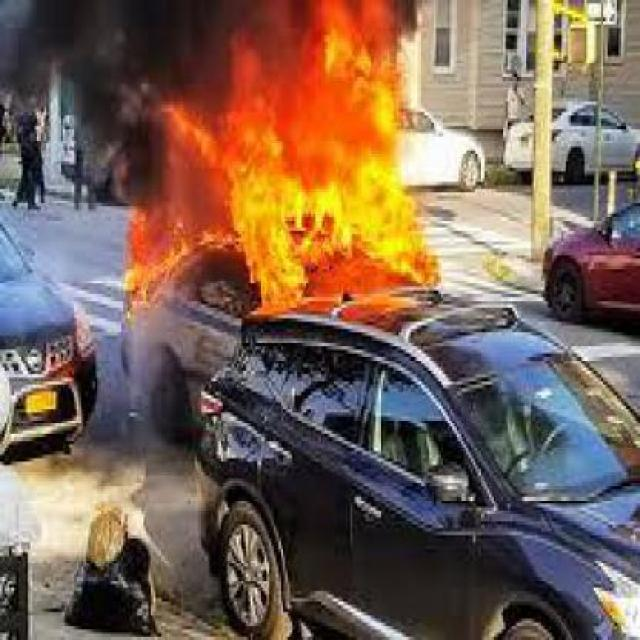fire: (118, 35, 450, 360)
